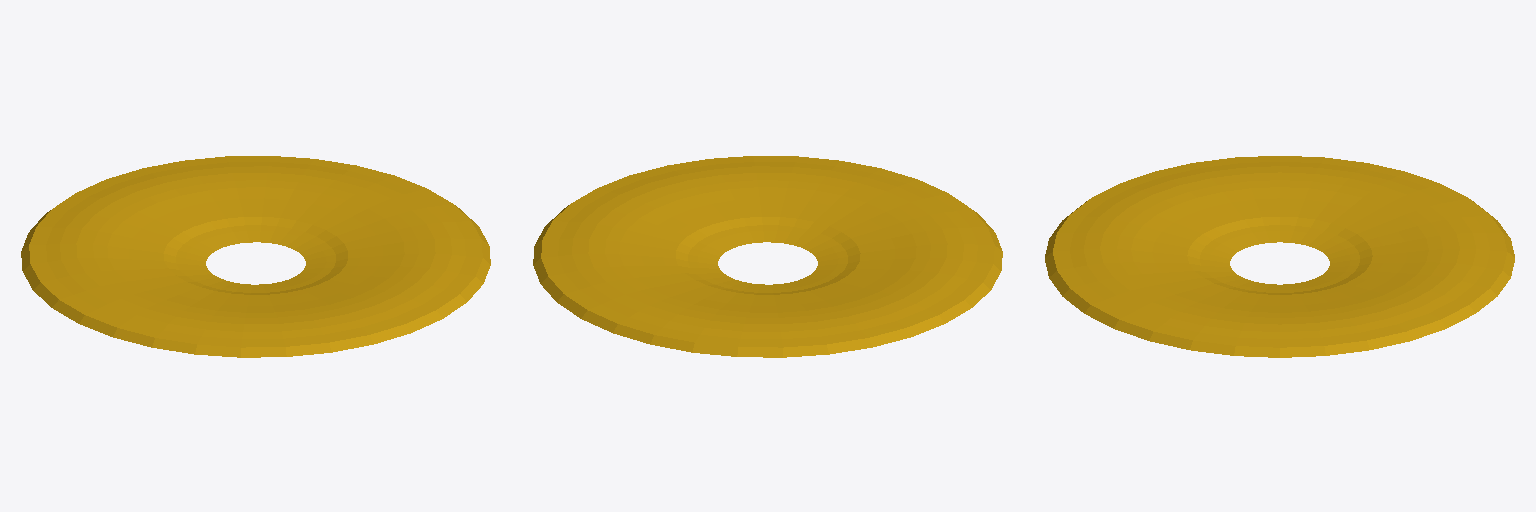
The model's file is meja3-3.obj.
3 renders of one model, left to right at view 1: azimuth 30°, elevation 25°; view 2: azimuth 150°, elevation 25°; view 3: azimuth 270°, elevation 25°, orthographic.
Parts seen in each view (by area): view 1: Cube.006_Cube.370_Cube.006_Cube.004; view 2: Cube.006_Cube.370_Cube.006_Cube.004; view 3: Cube.006_Cube.370_Cube.006_Cube.004.
Part boxes in pixels (bbox=[...]): Cube.006_Cube.370_Cube.006_Cube.004: bbox=[21, 156, 490, 357]; Cube.006_Cube.370_Cube.006_Cube.004: bbox=[533, 156, 1002, 357]; Cube.006_Cube.370_Cube.006_Cube.004: bbox=[1045, 156, 1514, 357].
Size of the model in its own units: 2.98 by 0.1046 by 2.98.